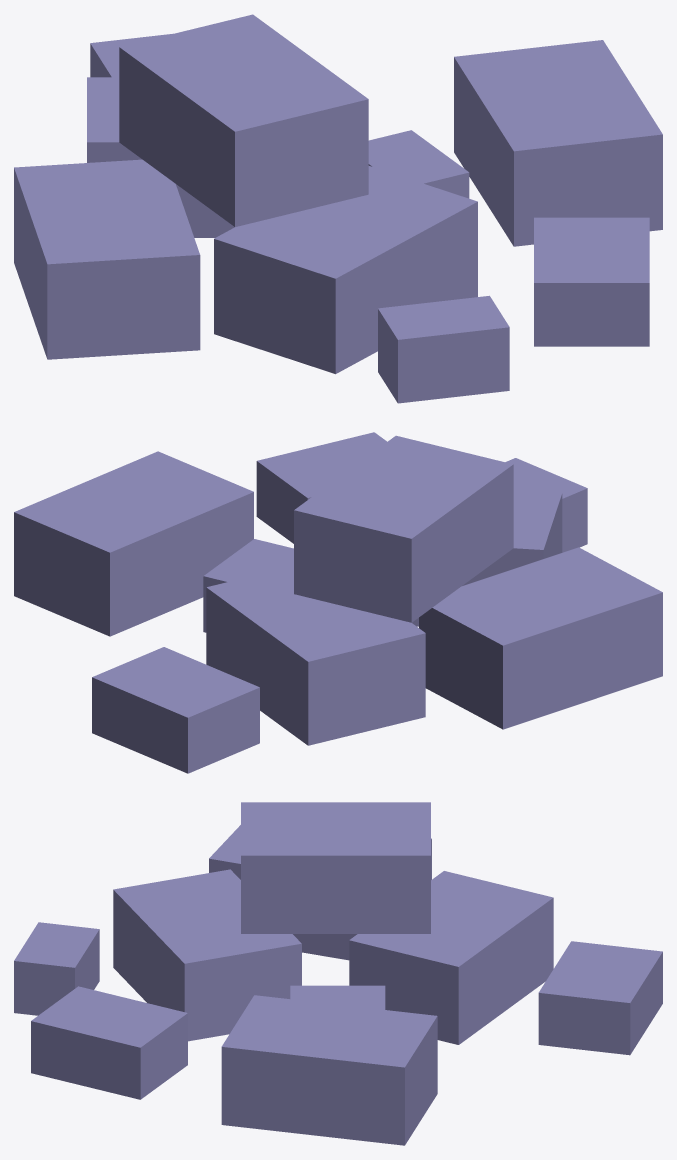
The model's file is obstacle 2.fbx.
3 views of the same model, one above another, from view 1: azimuth 30°, elevation 25°; view 2: azimuth 150°, elevation 25°; view 3: azimuth 270°, elevation 25° (orthographic). The views are drawn at different scales.
Parts seen in each view (by area): view 1: mergedBlocks; view 2: mergedBlocks; view 3: mergedBlocks.
Boxes of the visible parts, x1,y1,x2,y2 form: mergedBlocks: [14, 14, 662, 403]; mergedBlocks: [14, 432, 662, 773]; mergedBlocks: [14, 802, 662, 1145].
Size of the model in its own units: 10.64 by 3 by 11.28.
